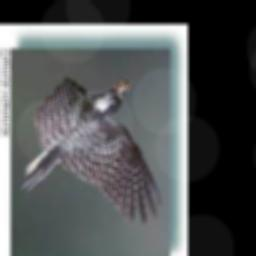Woodpecker: (22, 70, 167, 230)
